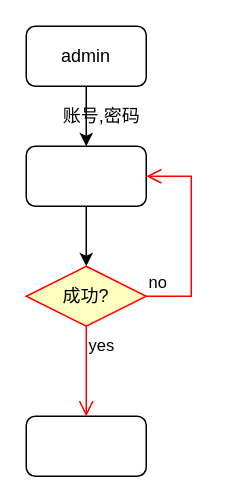
The diagram is 233 pixels wide and 503 high, and some of its shapes have lost their labels. The shapes that lost their labels are listed below. From the top down, each one's centre as x and y in pixels, then its label:
At pixel 85 175: "登录页面".
At pixel 85 445: "首页".
